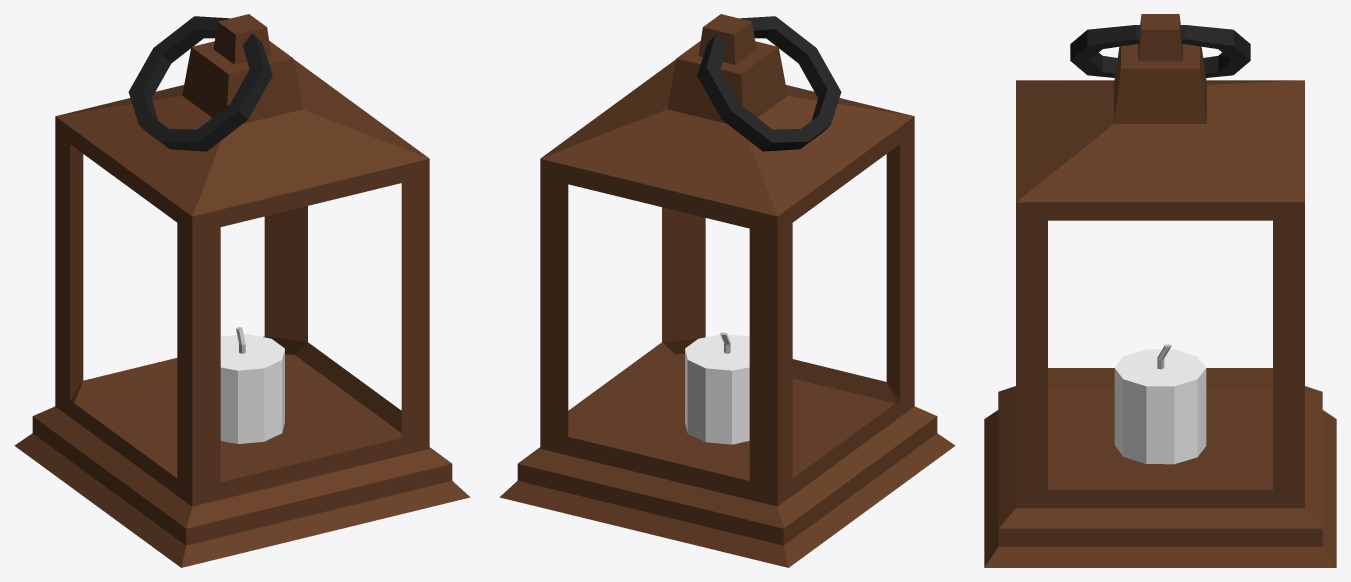
The model's file is lamp01.obj.
3 renders of one model, left to right at view 1: azimuth 30°, elevation 25°; view 2: azimuth 150°, elevation 25°; view 3: azimuth 270°, elevation 25°, orthographic. The views are drawn at different scales.
Visible parts, largest first — view 1: Cube; view 2: Cube; view 3: Cube.
Part boxes in pixels (box(x1,y1,x2,y2)): Cube: box(14, 14, 470, 567); Cube: box(499, 14, 955, 567); Cube: box(984, 14, 1336, 567).
Bounding box in the file's own units: 0.2008 × 0.2966 × 0.2008.
